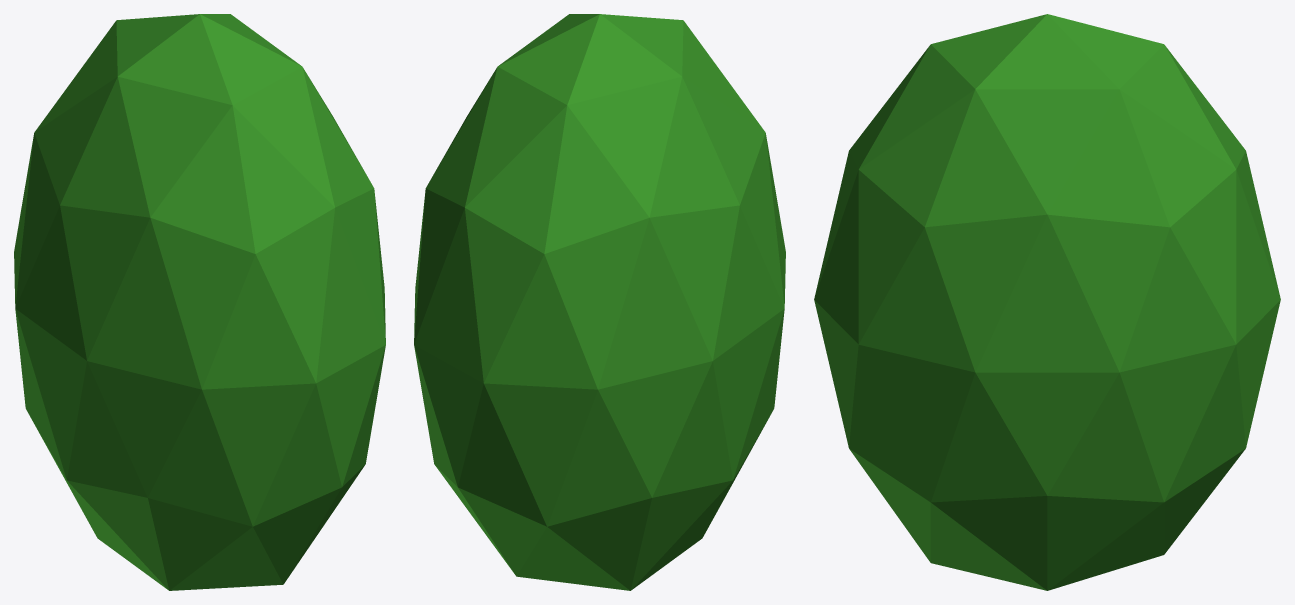
Rendered from cactus.fbx.
3 views of the same model, side by side, from view 1: azimuth 30°, elevation 25°; view 2: azimuth 150°, elevation 25°; view 3: azimuth 270°, elevation 25° (orthographic).
Parts seen in each view (by area): view 1: Icosphere; view 2: Icosphere; view 3: Icosphere.
Boxes of the visible parts, left/top/right/bottom form: Icosphere: left=14, top=14, right=385, bottom=590; Icosphere: left=414, top=14, right=785, bottom=590; Icosphere: left=814, top=14, right=1280, bottom=590.
Bounding box in the file's own units: 194 × 333 × 262.
